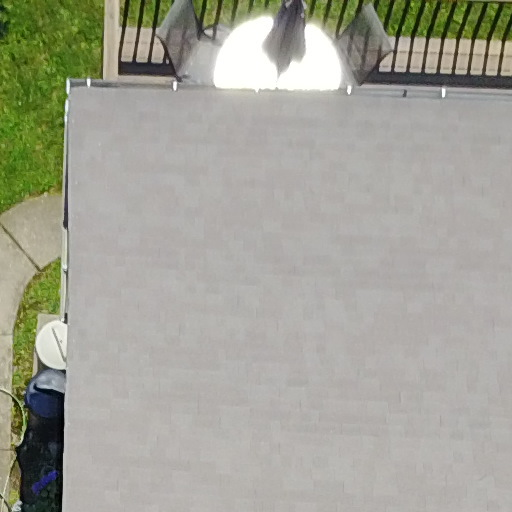trash bin: (27, 311, 77, 375), (22, 366, 66, 420)
